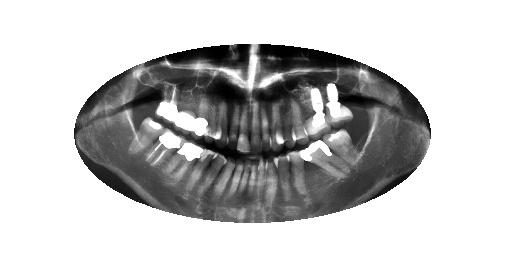i10healthy: (237, 159, 251, 202)
i11healthy: (226, 156, 244, 204)
i12healthy: (211, 153, 235, 209)
i13healthy: (195, 147, 228, 206)
i14healthy: (187, 146, 217, 206)
i15healthy: (164, 141, 204, 195)
i16healthy: (142, 122, 188, 184)
i17healthy: (126, 113, 167, 166)
i2healthy: (320, 123, 365, 170)
i3healthy: (296, 135, 356, 183)
i4healthy: (283, 147, 313, 204)
i5healthy: (272, 147, 296, 202)
i6decay: (261, 155, 280, 208)
i7decay: (255, 155, 270, 206)
i9healthy: (246, 157, 260, 204)
u10decay: (226, 99, 242, 151)
u11healthy: (212, 99, 232, 149)
u12healthy: (202, 95, 223, 144)
u13healthy: (188, 85, 210, 143)
u14healthy: (173, 87, 198, 139)
u16healthy: (153, 76, 179, 125)
u2healthy: (322, 80, 355, 131)
u3healthy: (299, 84, 338, 141)
u4healthy: (286, 94, 312, 146)
u5healthy: (273, 97, 300, 151)
u6healthy: (267, 99, 287, 152)
u7decay: (255, 100, 274, 153)
u8decay: (248, 99, 265, 155)
u9healthy: (234, 101, 252, 156)
